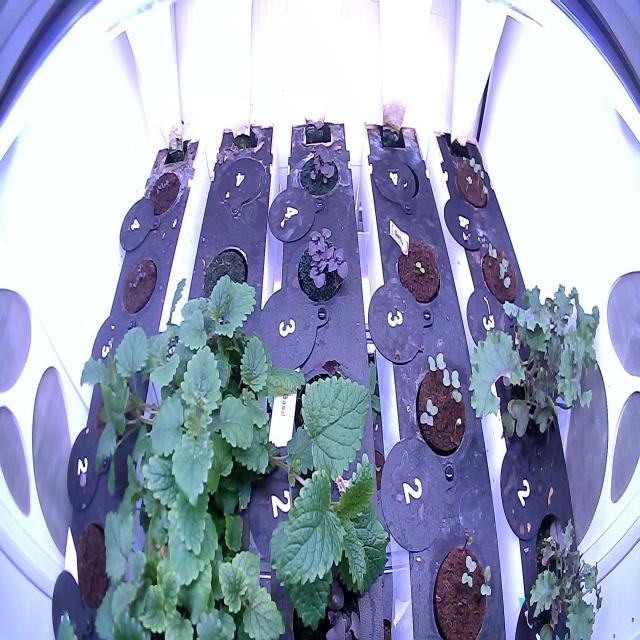empty_pod: (212, 152, 267, 220), (370, 150, 422, 218)
germination: (427, 523, 498, 638), (409, 348, 470, 462), (394, 234, 444, 309), (293, 139, 343, 205), (478, 240, 521, 310), (120, 253, 159, 319), (144, 161, 181, 224), (451, 152, 491, 210)
pod: (72, 512, 120, 615)
